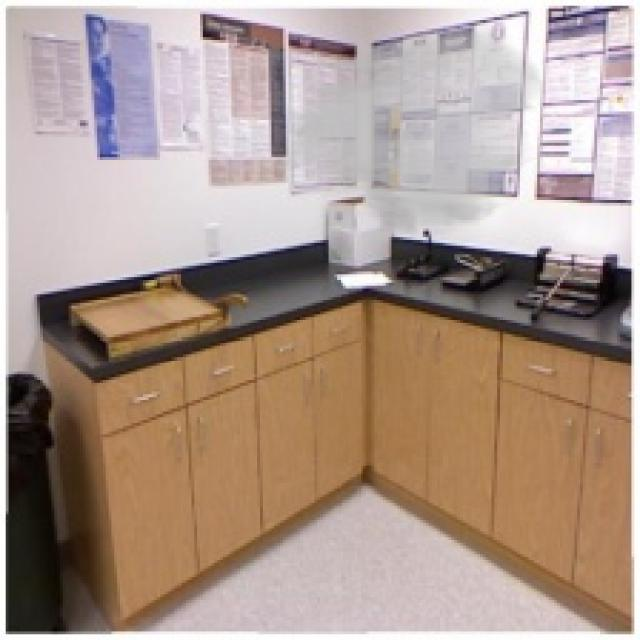smoke: (272, 23, 548, 240)
